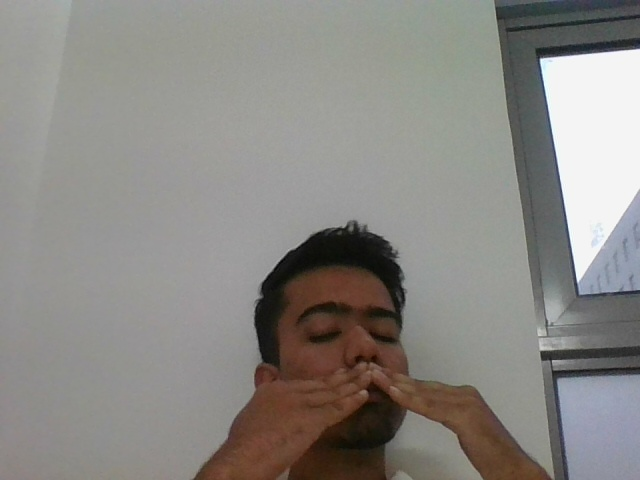thankyou: (225, 362, 506, 477)
